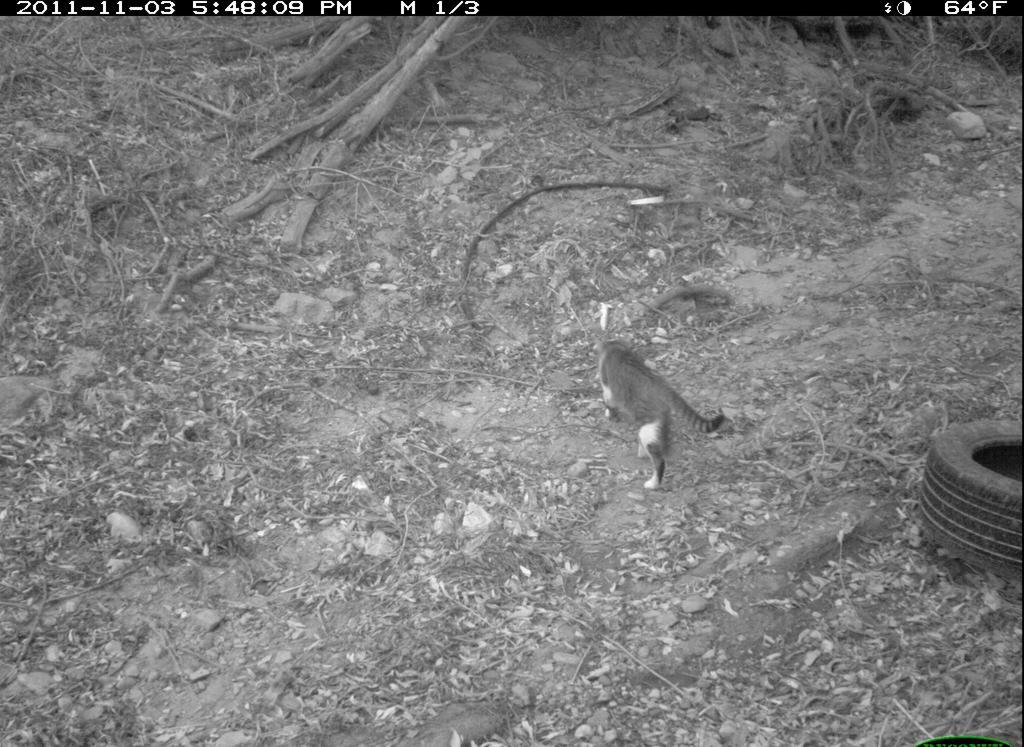cat: (591, 327, 733, 498)
